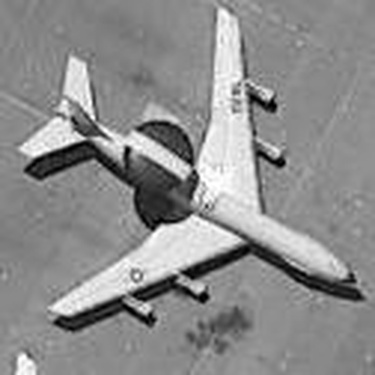airplane: (16, 4, 365, 335), (1, 340, 48, 372)
